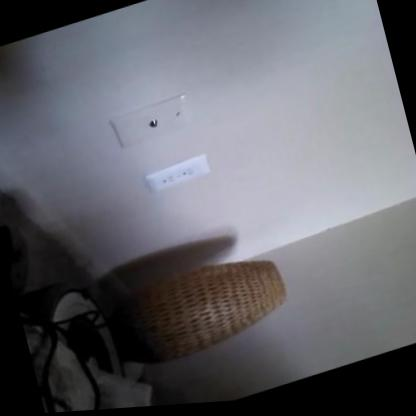OUTLET: (145, 151, 213, 194)
